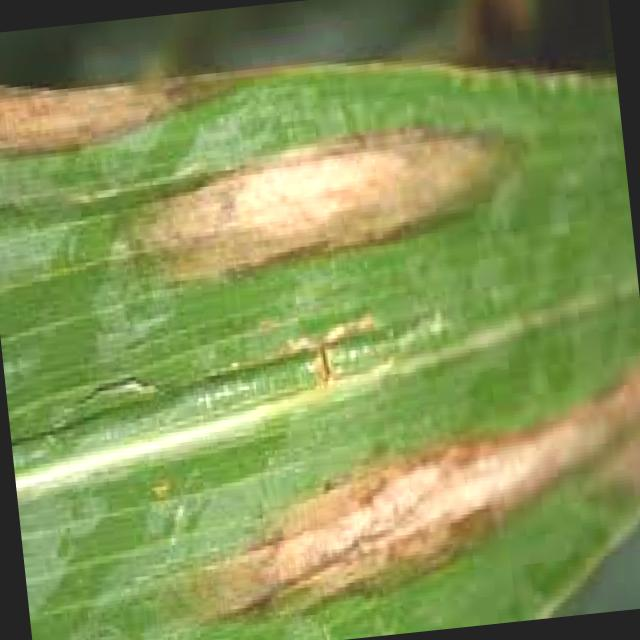leaf_blight: (0, 65, 640, 640)
